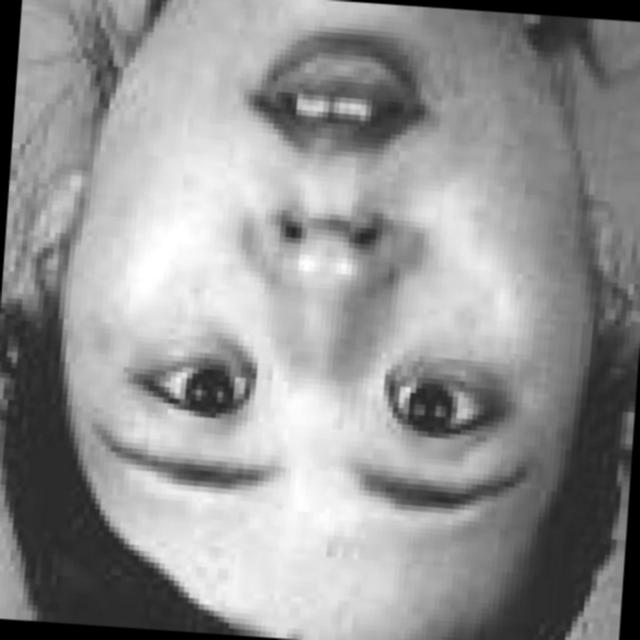fear: (63, 0, 577, 583)
